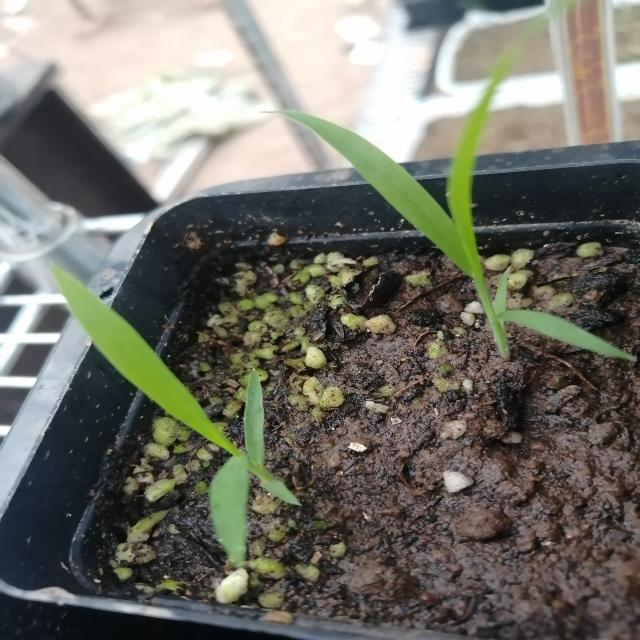crabgrass: (261, 68, 571, 370), (50, 272, 289, 526)
